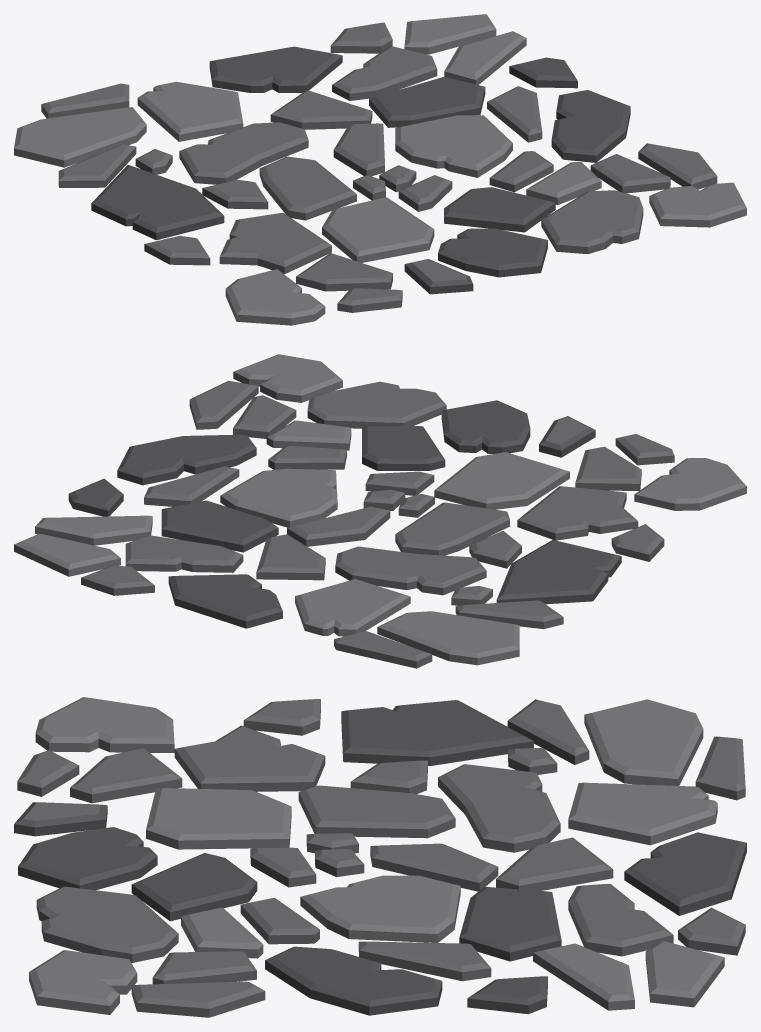
File: SM_Env_Path_Stone_01.gltf
3 renders of one model, top to bottom at view 1: azimuth 30°, elevation 25°; view 2: azimuth 150°, elevation 25°; view 3: azimuth 270°, elevation 25°, orthographic. The views are drawn at different scales.
Parts seen in each view (by area): view 1: SM_Env_Path_Stone_01; view 2: SM_Env_Path_Stone_01; view 3: SM_Env_Path_Stone_01.
Part boxes in pixels (x1,y1,x2,y2): SM_Env_Path_Stone_01: (14, 14, 746, 325); SM_Env_Path_Stone_01: (14, 354, 746, 668); SM_Env_Path_Stone_01: (14, 697, 746, 1017).
Size of the model in its own units: 2.91 by 0.0546 by 2.89.
1 material, 1 textured.
